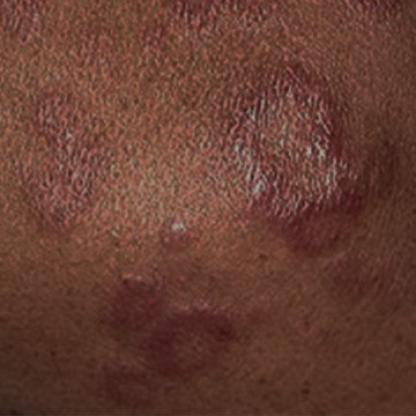Leprosy: (199, 57, 415, 253), (74, 258, 274, 376), (5, 83, 113, 230)
